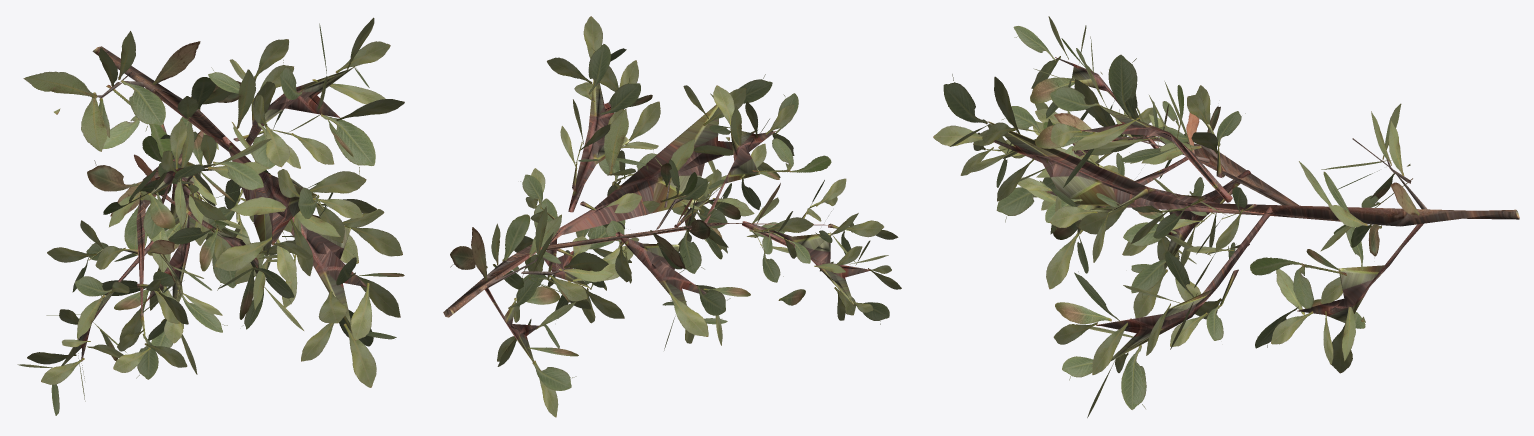
File: shrub_d.glb
3 views of the same model, side by side, from view 1: azimuth 30°, elevation 25°; view 2: azimuth 150°, elevation 25°; view 3: azimuth 270°, elevation 25° (orthographic). The views are drawn at different scales.
Visible parts, largest first — view 1: shrub_d; view 2: shrub_d; view 3: shrub_d.
Part boxes in pixels (x1,y1,x2,y2): shrub_d: (17,17,404,415); shrub_d: (443,16,901,417); shrub_d: (933,16,1519,417).
Size of the model in its own units: 0.1722 by 0.1463 by 0.2143.
Materials: 1 (1 with a texture image).
